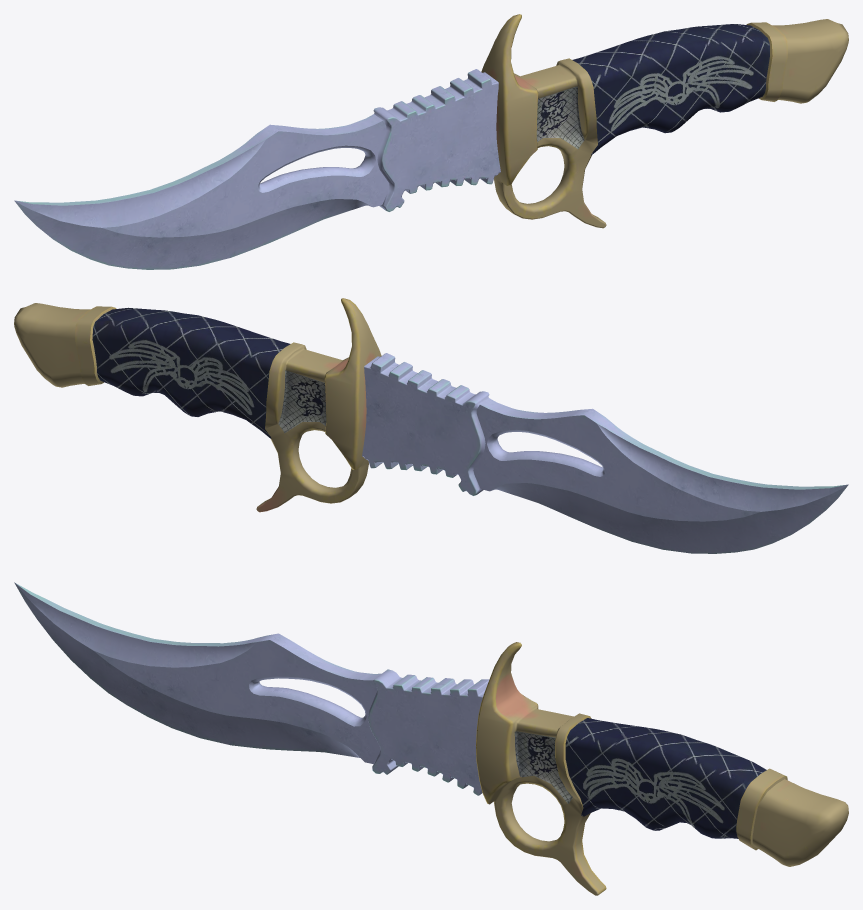
File: sf-knife-60c865c4.glb
3 renders of one model, top to bottom at view 1: azimuth 30°, elevation 25°; view 2: azimuth 150°, elevation 25°; view 3: azimuth 330°, elevation 25°, orthographic.
Parts seen in each view (by area): view 1: blade_low, handle_low; view 2: blade_low, handle_low; view 3: blade_low, handle_low.
Part boxes in pixels (x1,y1,x2,y2): blade_low: [14, 69, 500, 269]; handle_low: [481, 14, 848, 228]; blade_low: [362, 353, 848, 553]; handle_low: [14, 298, 381, 512]; blade_low: [14, 582, 489, 795]; handle_low: [475, 642, 848, 895].
Bounding box in the file's own units: 1258 × 335 × 84.04.
4 materials, 4 textured.
